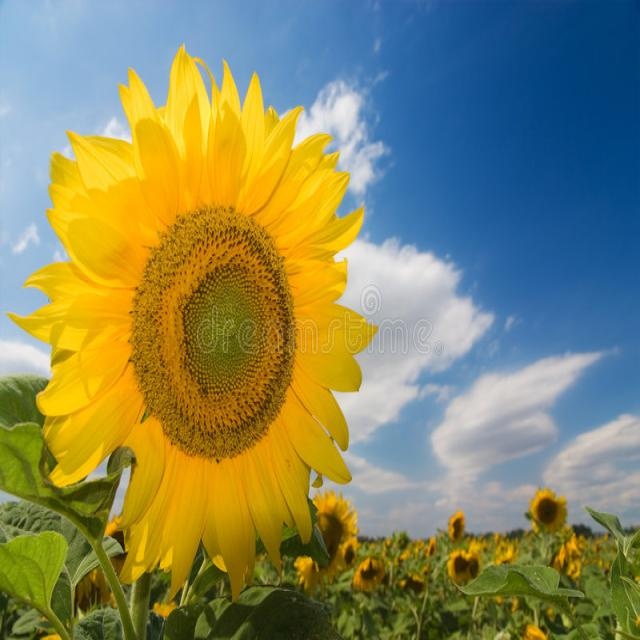sunflower: (31, 41, 392, 611), (289, 482, 361, 604), (520, 480, 574, 543), (356, 556, 388, 600), (447, 505, 467, 547)
